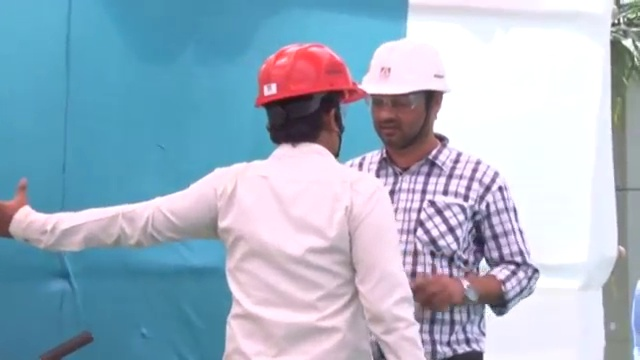helmet: (245, 40, 369, 104), (357, 38, 453, 95)
helmet_on: (244, 38, 370, 164), (357, 36, 455, 169)
person: (2, 40, 429, 360), (349, 38, 540, 360)
